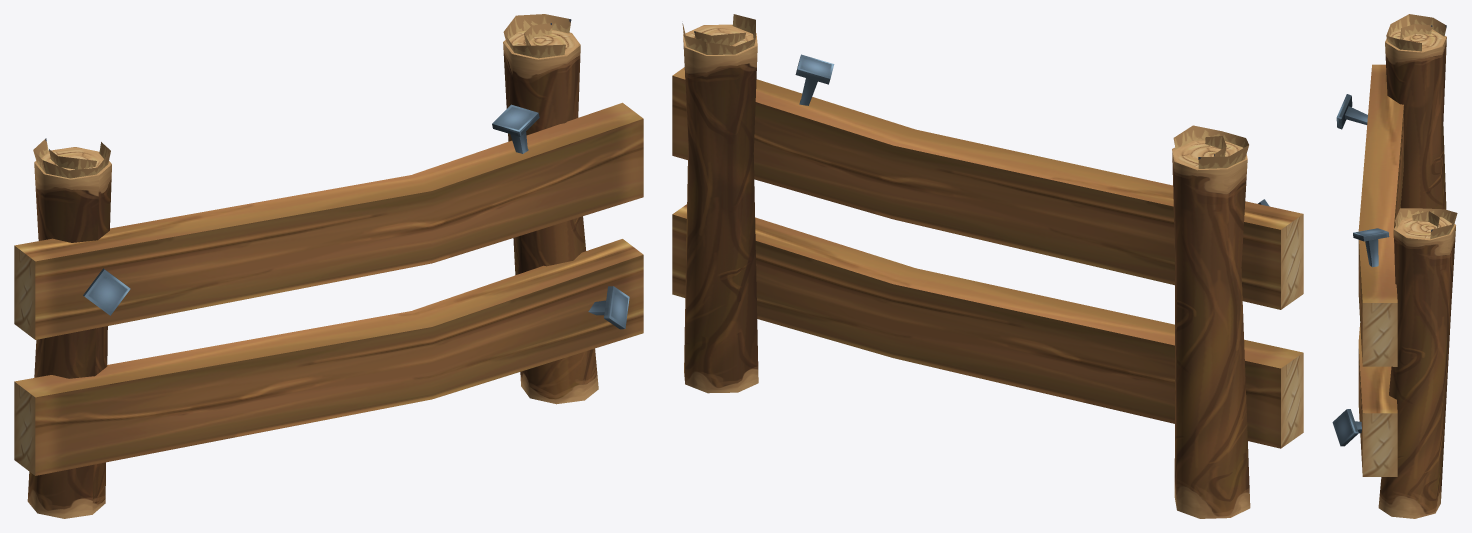
File: fence.fbx
The picture shows the model from 3 angles, left to right: view 1: azimuth 30°, elevation 25°; view 2: azimuth 150°, elevation 25°; view 3: azimuth 270°, elevation 25°; orthographic projection. The views are drawn at different scales.
Parts seen in each view (by area): view 1: fence:Mesh; view 2: fence:Mesh; view 3: fence:Mesh.
Boxes of the visible parts, x1,y1,x2,y2 form: fence:Mesh: (14,14,643,518); fence:Mesh: (672,14,1303,518); fence:Mesh: (1332,14,1457,518).
Size of the model in its own units: 4.59 by 2.57 by 1.02.
